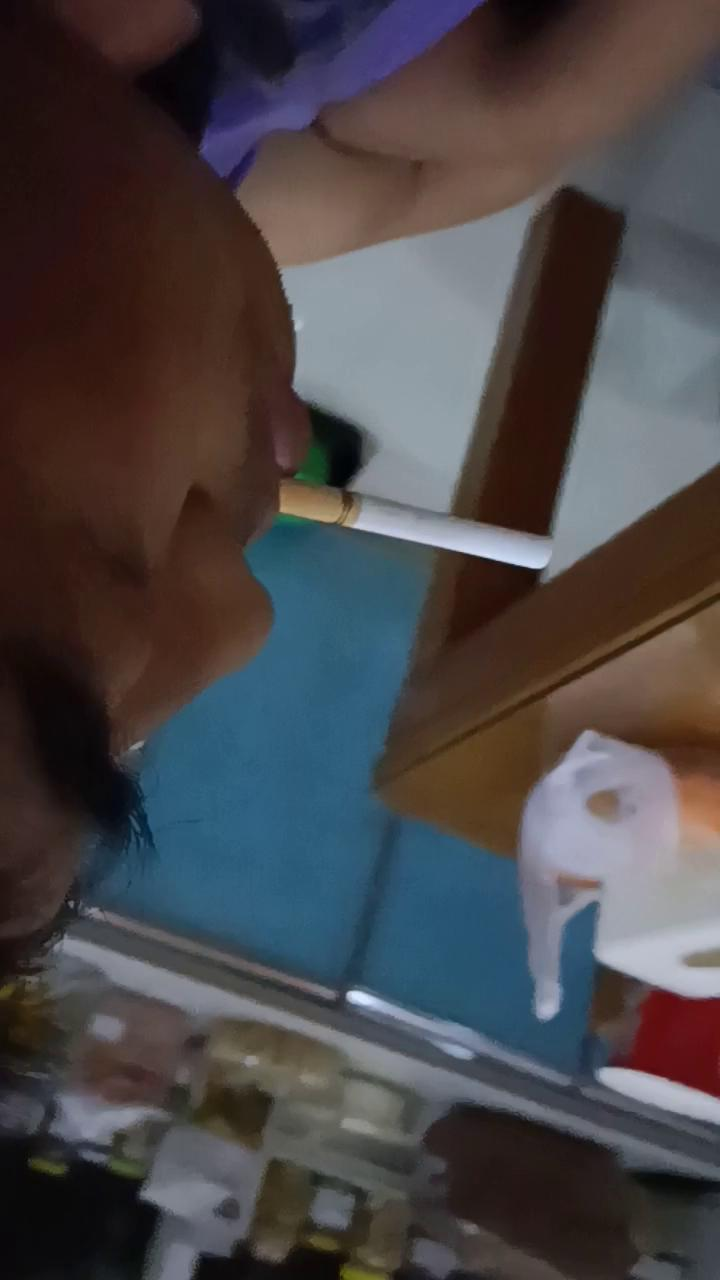smoke: (278, 479, 555, 570)
